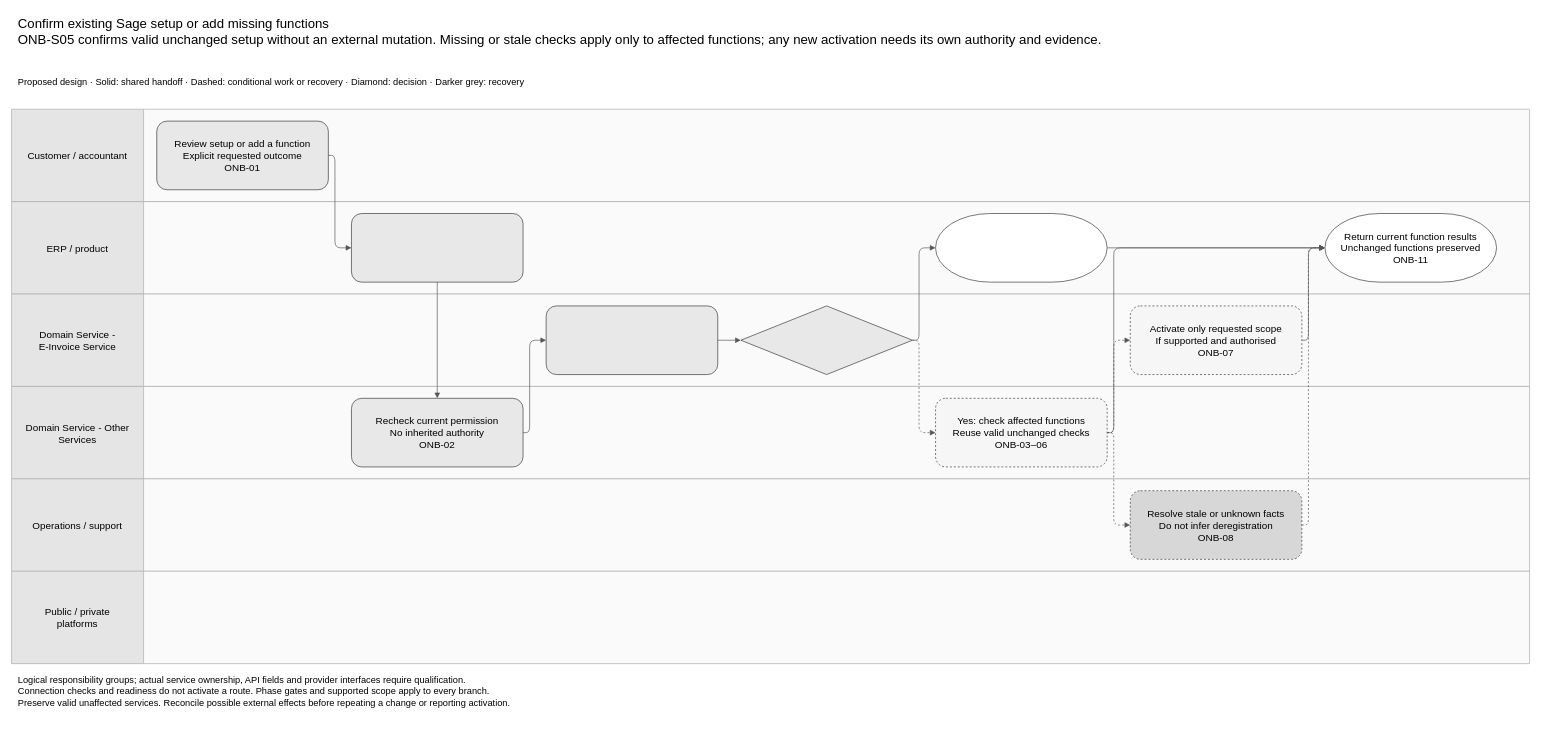
This 1541x744 diagram has some shape labels left out. The box of each missing label's shape, as (x1, y1, x2, y2) in pixels:
Any missing work? ONB-10: (740, 305, 912, 375)
No: confirm existing setup Zero external mutations ONB-11: (935, 213, 1107, 282)
Read setup and evidence Settings, versions, freshness ONB-10: (545, 305, 718, 375)
Submit review through the API Business and environment ONB-01: (351, 213, 523, 282)
